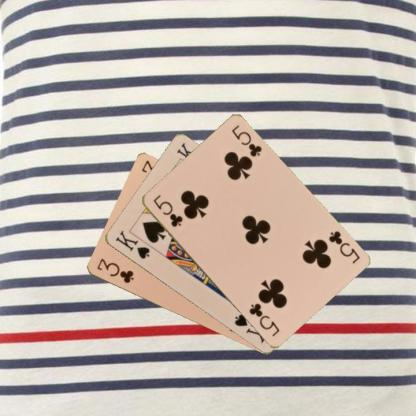3c: (94, 255, 136, 285)
5c: (325, 228, 361, 265), (150, 191, 184, 228)
Ks: (112, 228, 151, 260)
